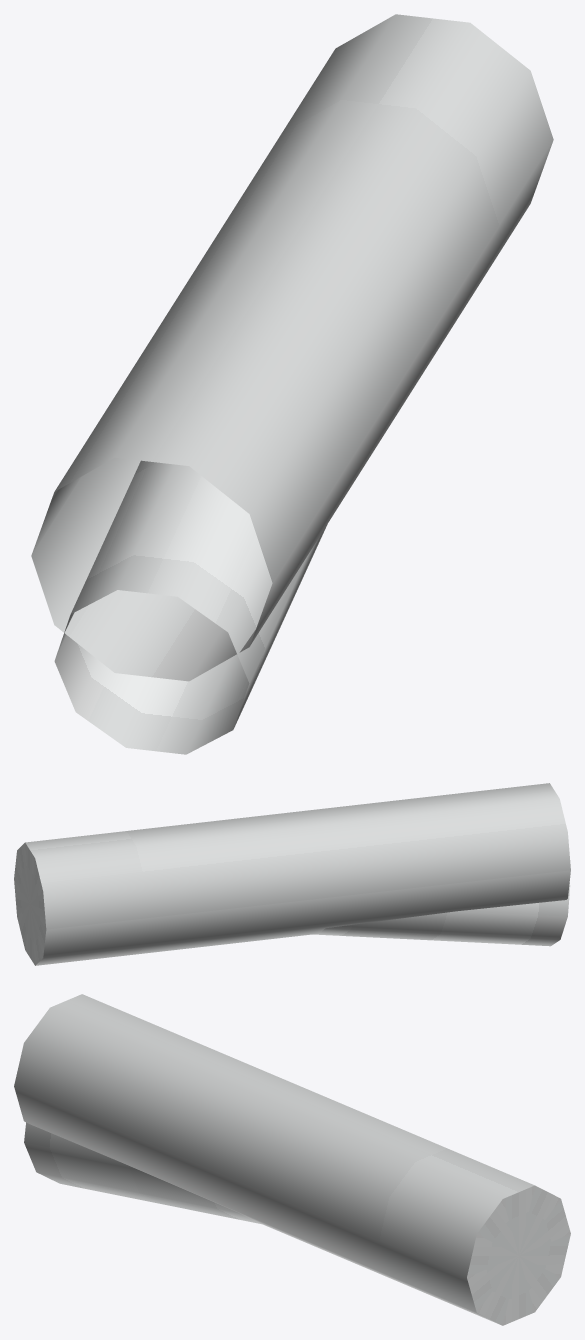
File: trusssignalarm_diagonal5_c7.obj
3 renders of one model, top to bottom at view 1: azimuth 30°, elevation 25°; view 2: azimuth 150°, elevation 25°; view 3: azimuth 270°, elevation 25°, orthographic. The views are drawn at different scales.
Parts seen in each view (by area): view 1: trusssignalarm_diagonal5_c7; view 2: trusssignalarm_diagonal5_c7; view 3: trusssignalarm_diagonal5_c7.
Boxes of the visible parts, box(x1,y1,x2,y2) form: trusssignalarm_diagonal5_c7: box(31, 14, 553, 754); trusssignalarm_diagonal5_c7: box(14, 783, 570, 965); trusssignalarm_diagonal5_c7: box(14, 994, 570, 1325).
Bounding box in the file's own units: 1.23 × 0.425 × 1.23.
